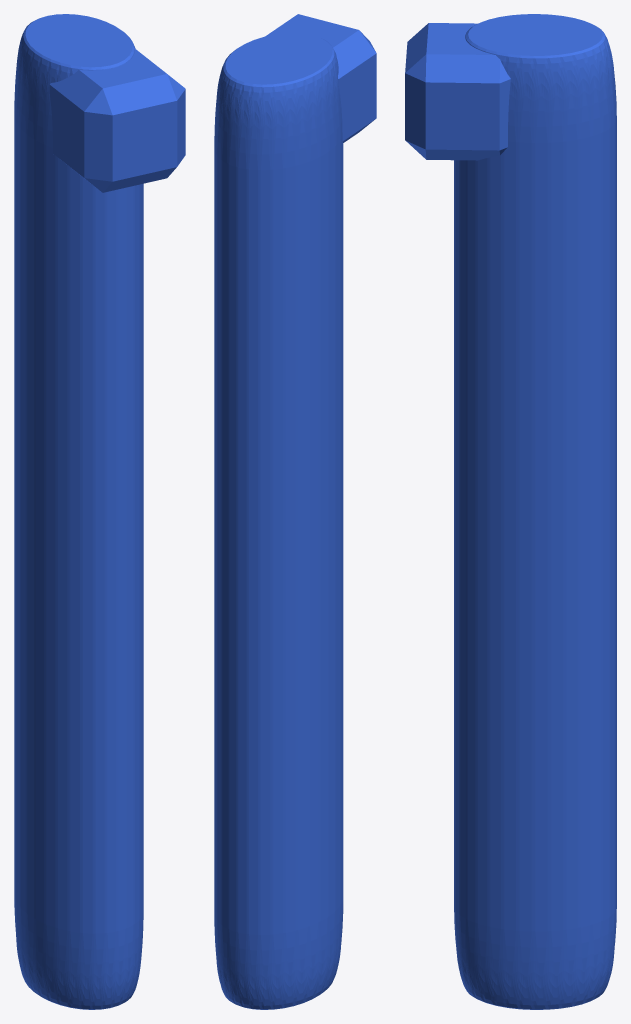
The model's file is ankle_right.dae.
3 renders of one model, left to right at view 1: azimuth 30°, elevation 25°; view 2: azimuth 150°, elevation 25°; view 3: azimuth 270°, elevation 25°, orthographic. The views are drawn at different scales.
Parts seen in each view (by area): view 1: right_ankle; view 2: right_ankle; view 3: right_ankle.
Boxes of the visible parts, x1=… form: right_ankle: x1=14, y1=14, x2=185, y2=1009; right_ankle: x1=214, y1=14, x2=376, y2=1009; right_ankle: x1=405, y1=14, x2=616, y2=1009.
Size of the model in its own units: 0.0283 by 0.0484 by 0.2405.
